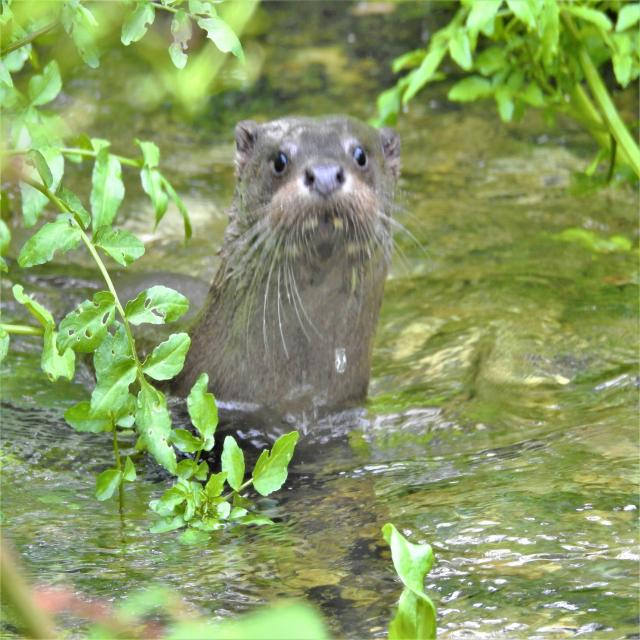otter: (181, 114, 400, 394)
